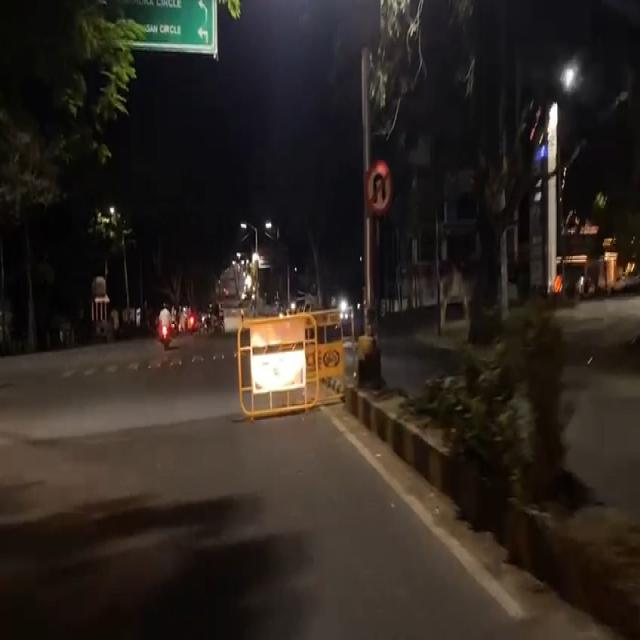bien_cam: (363, 156, 396, 214)
